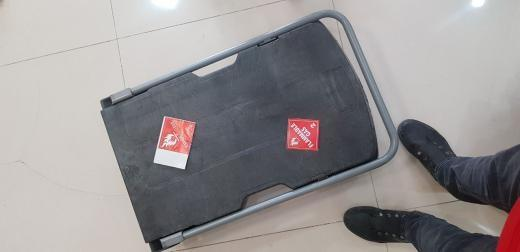flammable: (157, 116, 195, 155), (287, 118, 319, 150)
